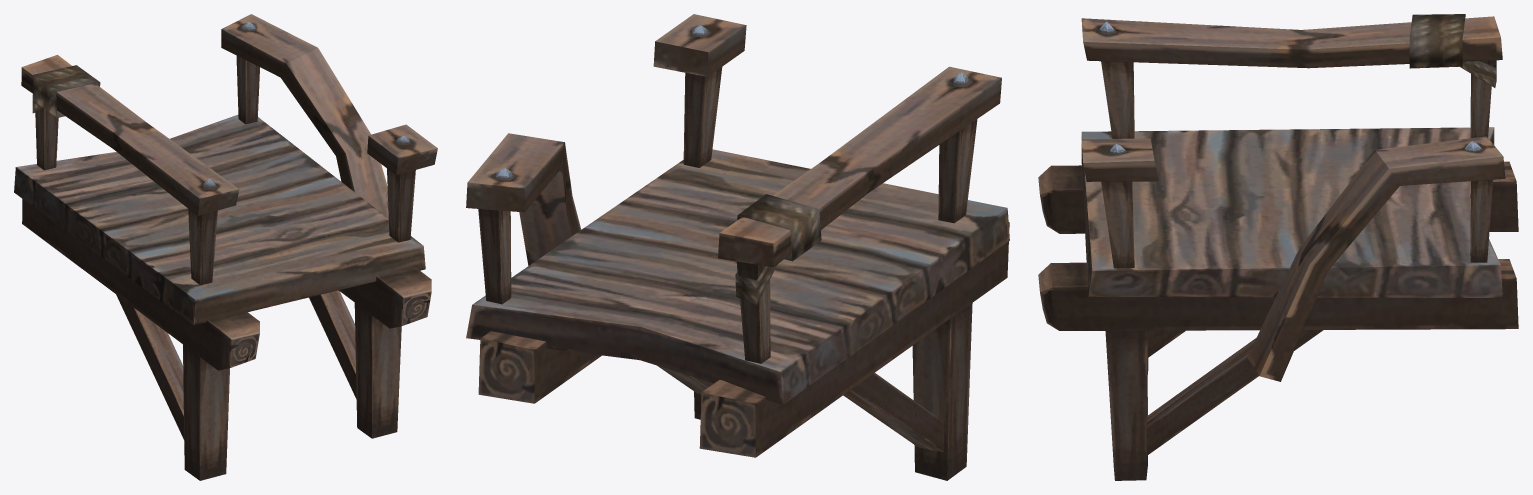
The model's file is mine_platform01.fbx.
The picture shows the model from 3 angles, left to right: view 1: azimuth 30°, elevation 25°; view 2: azimuth 150°, elevation 25°; view 3: azimuth 270°, elevation 25°; orthographic projection. The views are drawn at different scales.
Visible parts, largest first — view 1: 11_-_Default; view 2: 11_-_Default; view 3: 11_-_Default.
Part boxes in pixels (x1=…): 11_-_Default: x1=14, y1=14, x2=437, y2=480; 11_-_Default: x1=466, y1=14, x2=1009, y2=480; 11_-_Default: x1=1038, y1=14, x2=1518, y2=480.
Size of the model in its own units: 4.29 by 4.3 by 5.32.
